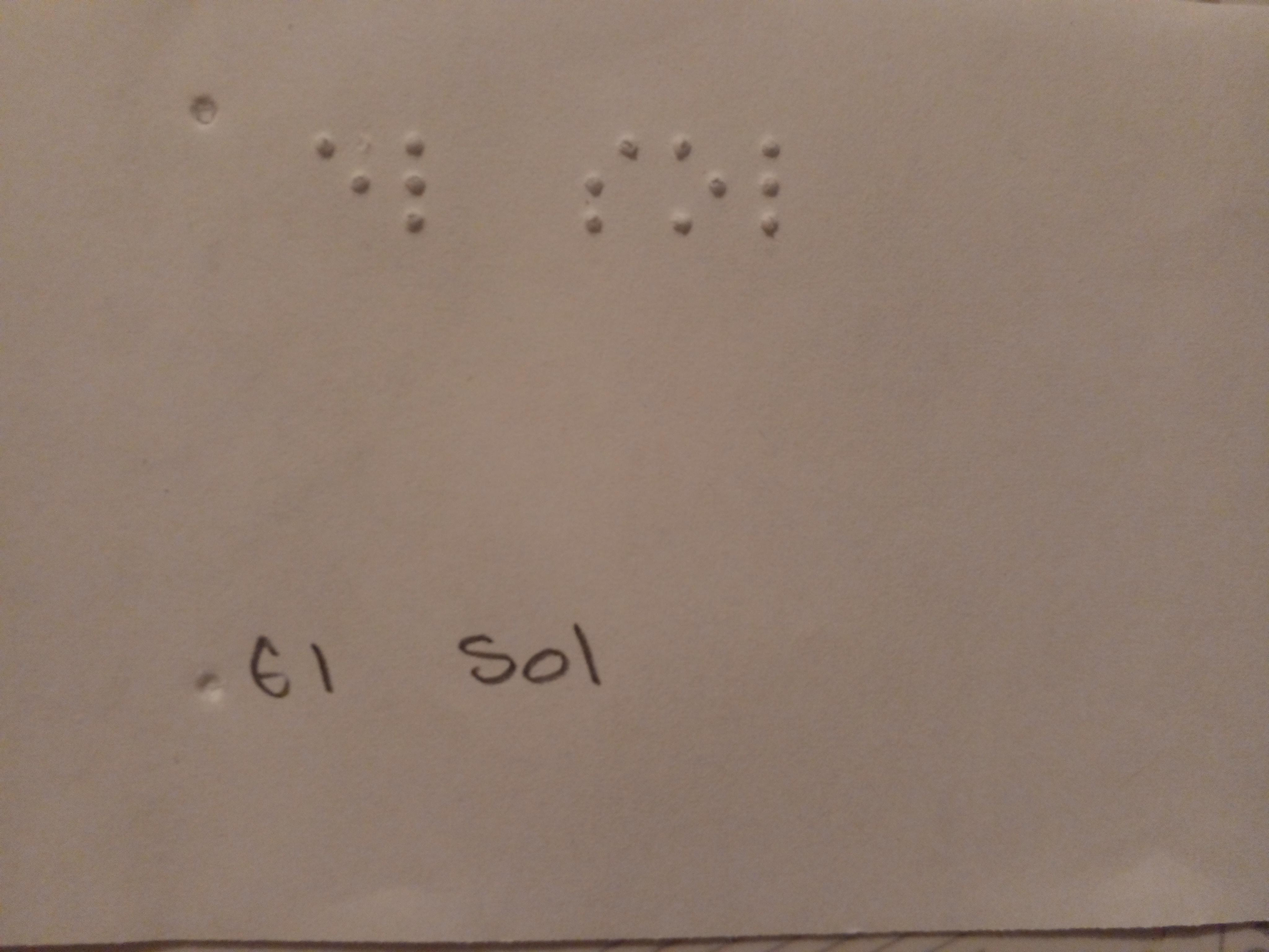e: (297, 110, 383, 225)
l: (386, 118, 449, 243), (740, 135, 804, 243)
o: (652, 122, 731, 249)
s: (567, 126, 648, 260)
